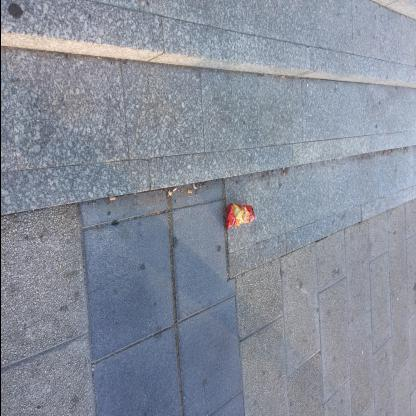plastik: (224, 203, 254, 231)
